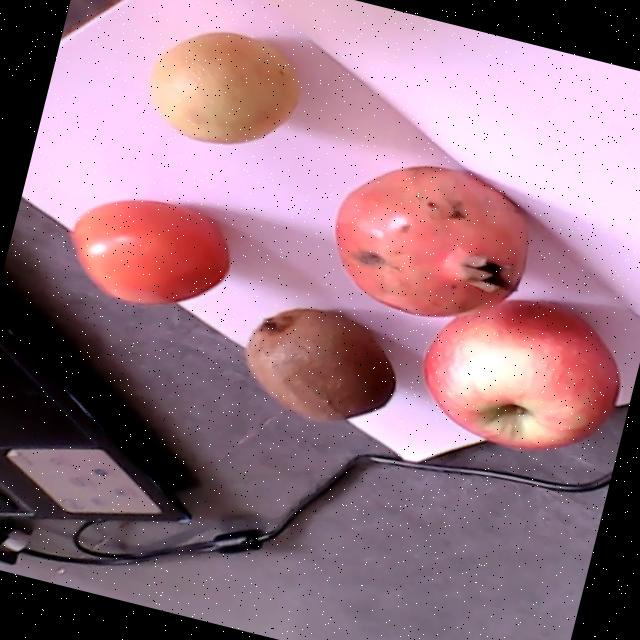apple: (422, 300, 620, 448)
kiwi: (246, 309, 396, 420)
lemon: (148, 32, 299, 144)
pomegranate: (335, 164, 530, 316)
tomato: (70, 200, 230, 304)
